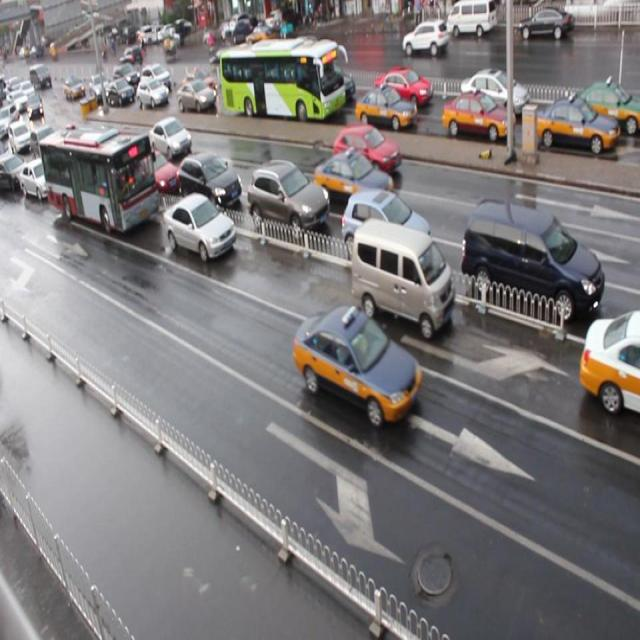car: (292, 308, 422, 428), (340, 188, 430, 272), (579, 308, 640, 414), (248, 160, 329, 233), (164, 191, 237, 264), (535, 95, 621, 156), (313, 150, 392, 213), (442, 92, 515, 144), (177, 150, 242, 208), (332, 123, 399, 179), (460, 68, 531, 118), (573, 82, 640, 134), (355, 86, 416, 133), (372, 69, 429, 110), (132, 145, 179, 194), (306, 62, 354, 106), (148, 115, 193, 161), (18, 156, 56, 202), (87, 134, 124, 174), (177, 78, 218, 113), (39, 130, 70, 171), (1, 151, 27, 192), (136, 79, 170, 109), (142, 61, 171, 93), (29, 128, 56, 162), (184, 69, 213, 97), (108, 76, 134, 105)
truck: (462, 195, 603, 326), (350, 217, 453, 336)
van: (40, 126, 161, 234), (219, 38, 344, 120)
